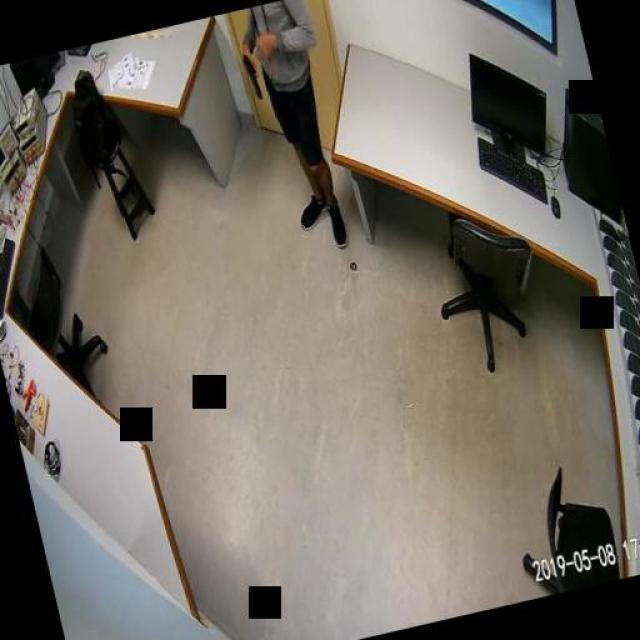gun: (238, 50, 262, 100)
